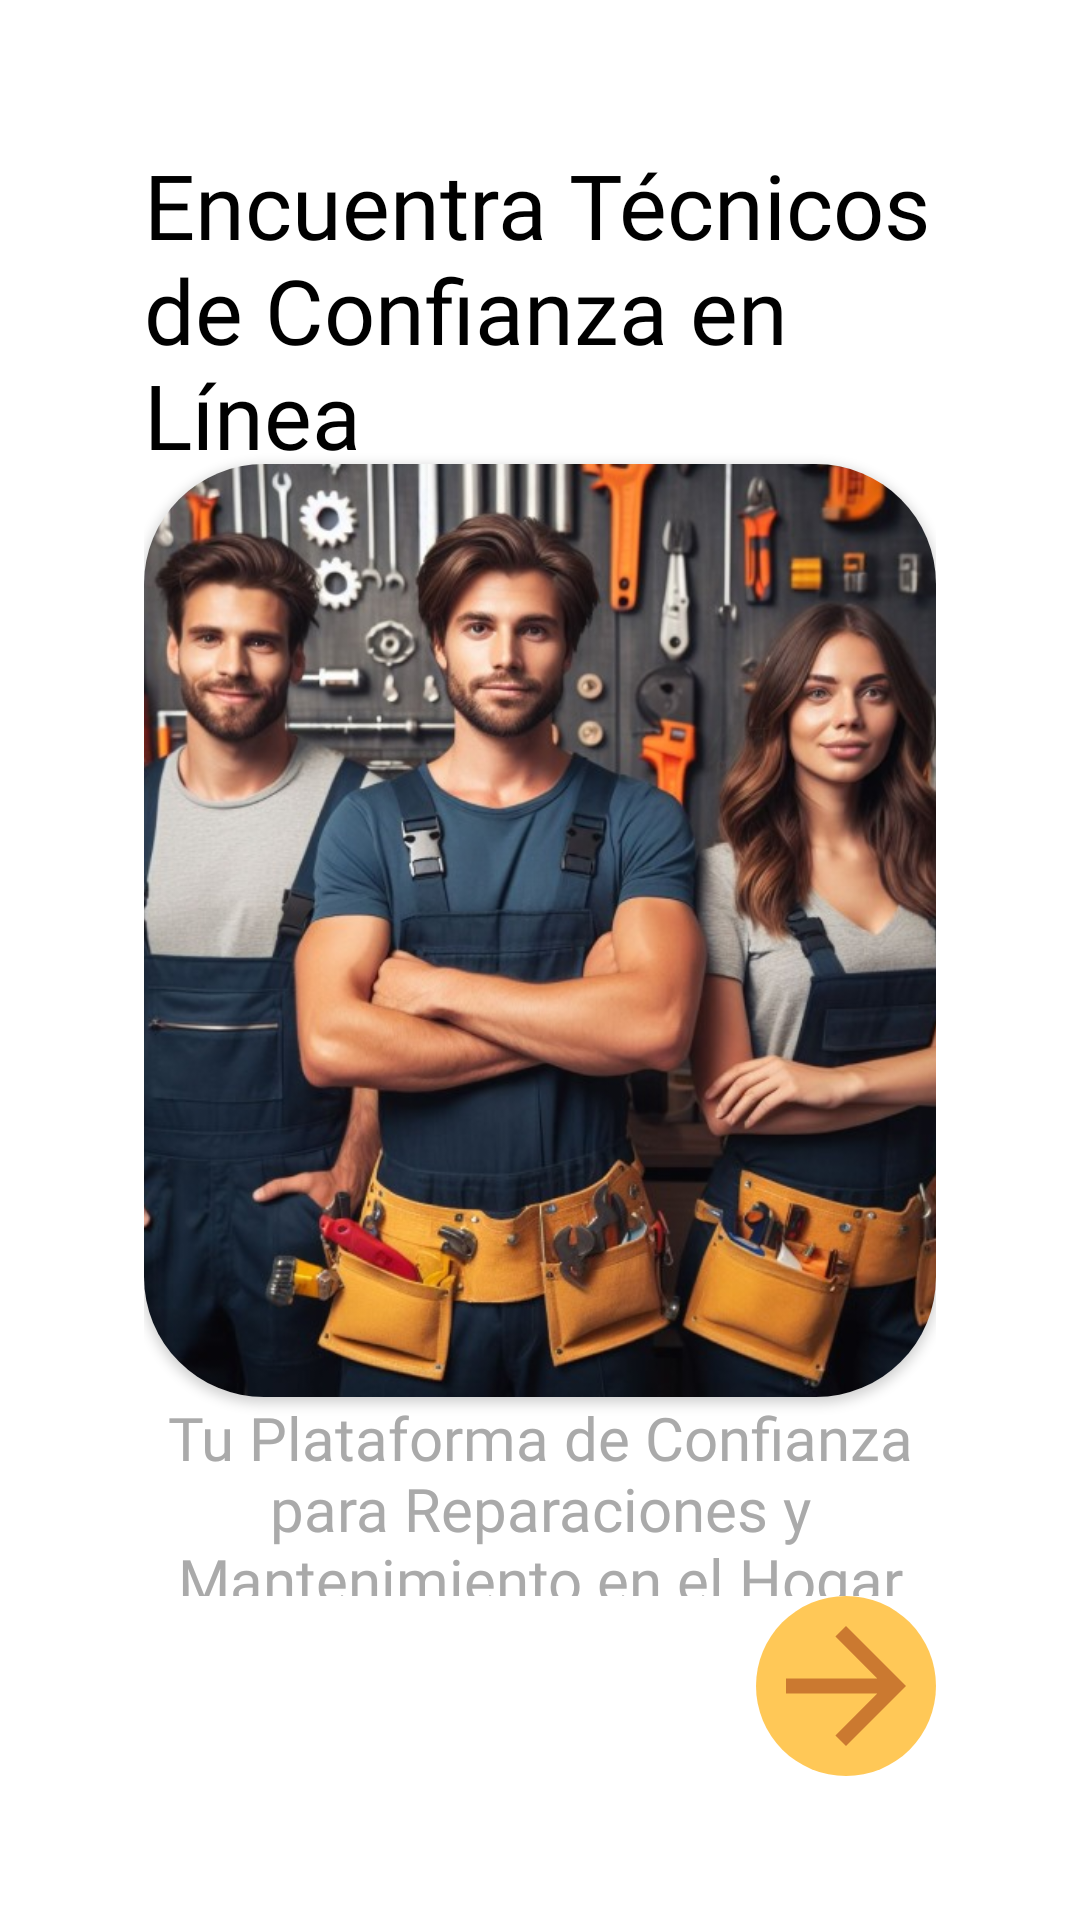

Screen size 1080w x 1920h. Icon name, then its box in pixels as region(x1, y1, x2, y2):
arrow forward: region(756, 1596, 936, 1776)
